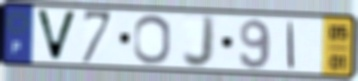7: (80, 8, 115, 65)
9: (237, 17, 272, 70)
I: (286, 20, 296, 71)
J: (181, 13, 218, 70)
O: (132, 13, 173, 66)
V: (34, 8, 80, 63)
